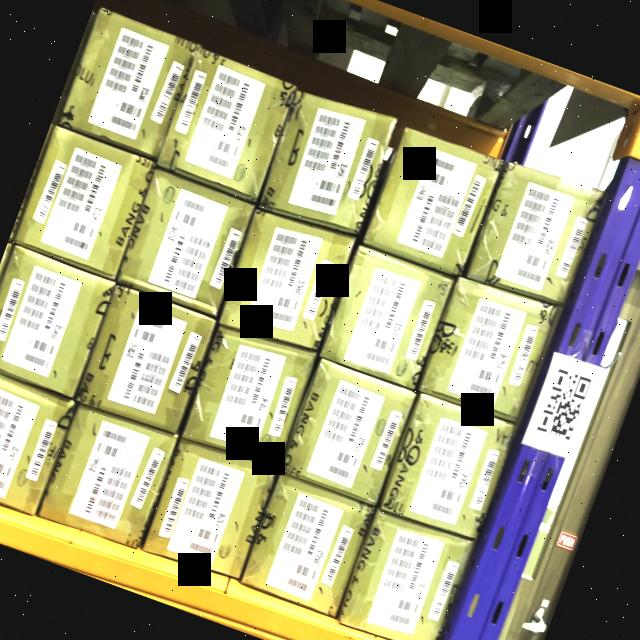box: (363, 127, 502, 279), (15, 127, 155, 276), (77, 286, 216, 434), (158, 52, 296, 198), (61, 10, 198, 156), (117, 171, 255, 315), (468, 161, 602, 308), (41, 406, 176, 547), (421, 276, 555, 418), (283, 361, 416, 504), (320, 248, 452, 392), (384, 393, 515, 538), (242, 475, 374, 617), (262, 92, 394, 234), (221, 209, 354, 349), (184, 328, 314, 467), (144, 440, 276, 576), (0, 245, 115, 394), (340, 511, 472, 640), (0, 369, 74, 513)
